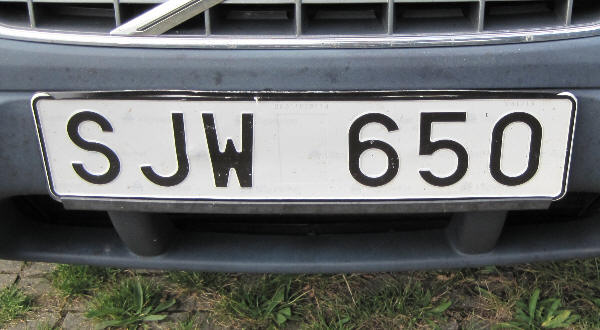license_plate: (30, 92, 577, 203)
